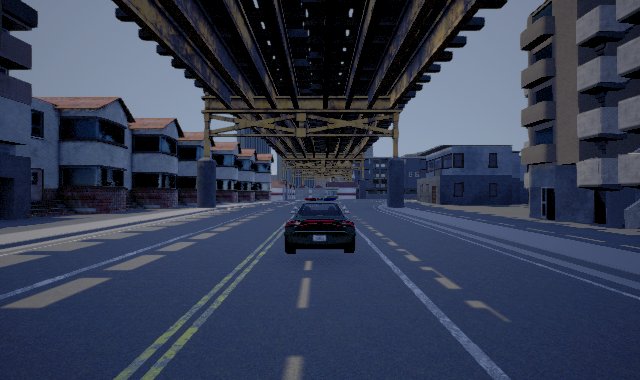vehicle: (284, 198, 356, 254)
